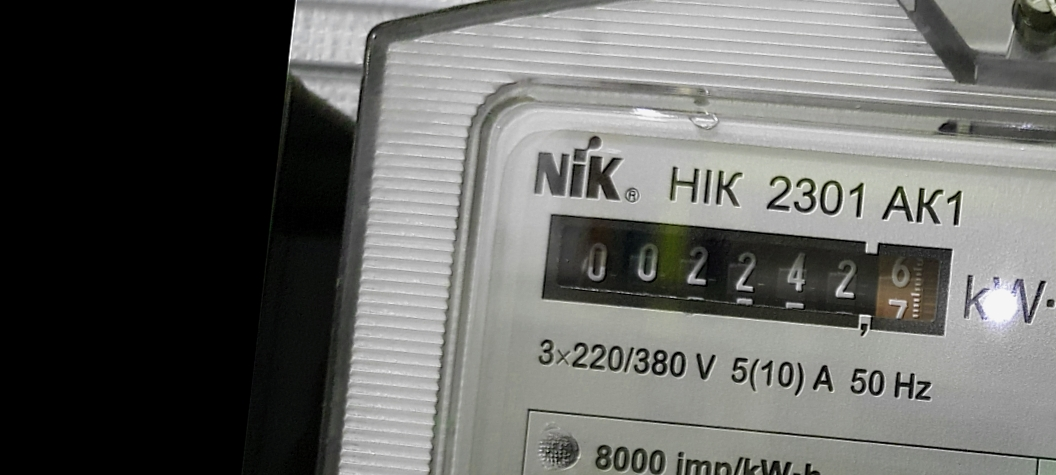0: (634, 239, 663, 284), (685, 243, 714, 288), (585, 238, 612, 285)
2: (832, 256, 862, 302), (734, 249, 762, 295)
4: (784, 249, 812, 294)
6: (889, 254, 916, 290)
7: (885, 296, 911, 321)
screen: (530, 191, 973, 362)
